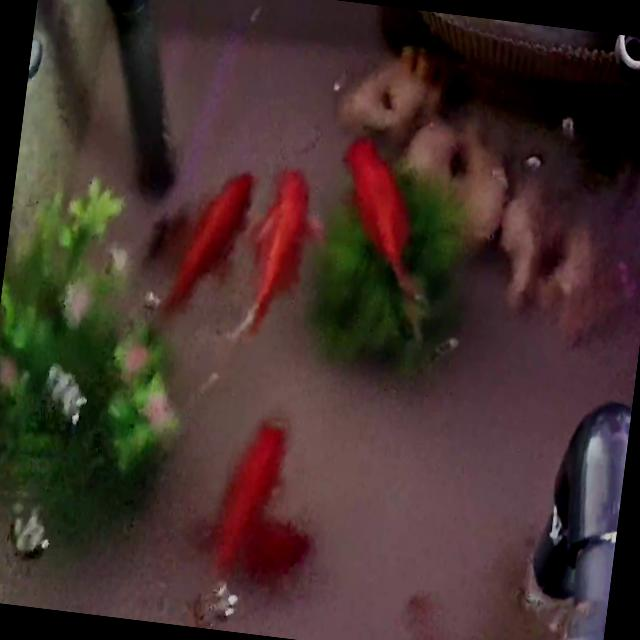fish: (324, 132, 440, 330), (154, 160, 257, 328), (232, 162, 321, 349), (206, 410, 289, 582), (238, 510, 314, 584), (393, 591, 450, 640)
